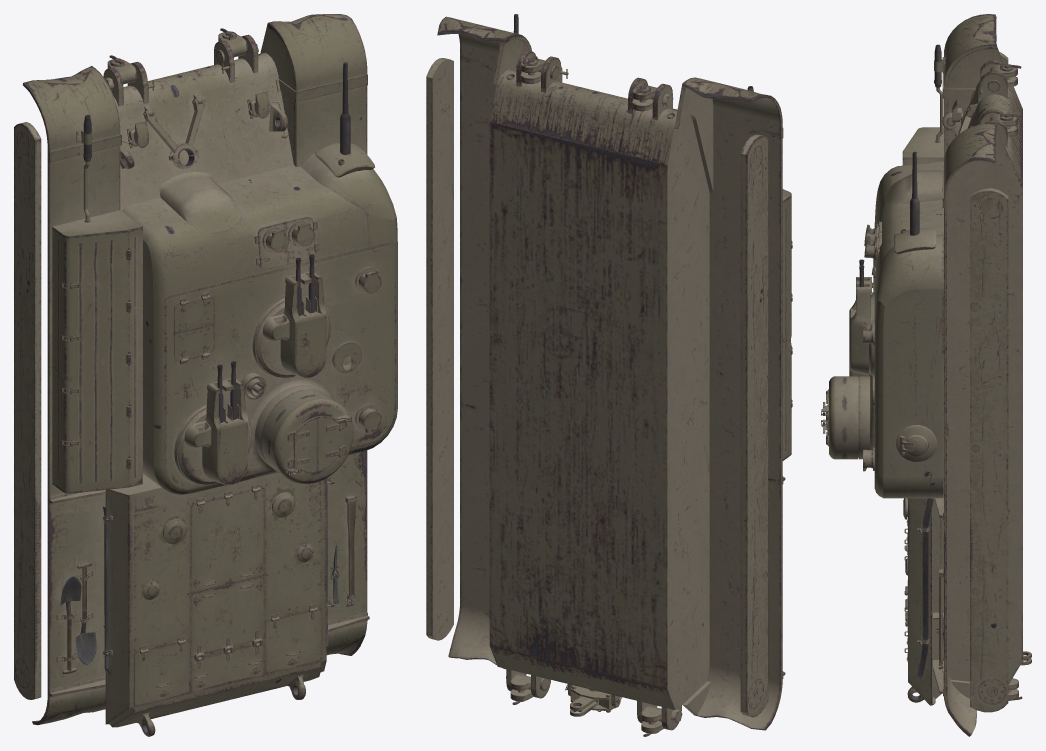
Rendered from Hull.glb.
3 views of the same model, side by side, from view 1: azimuth 30°, elevation 25°; view 2: azimuth 150°, elevation 25°; view 3: azimuth 270°, elevation 25° (orthographic). The views are drawn at different scales.
Visible parts, largest first — view 1: set_0_group_0; view 2: set_0_group_0; view 3: set_0_group_0.
Part boxes in pixels (<box>): set_0_group_0: <box>14,14,397,736</box>; set_0_group_0: <box>426,14,792,736</box>; set_0_group_0: <box>821,14,1031,736</box>.
Size of the model in its own units: 3.33 by 6.29 by 2.05.
Materials: 1 (1 with a texture image).
